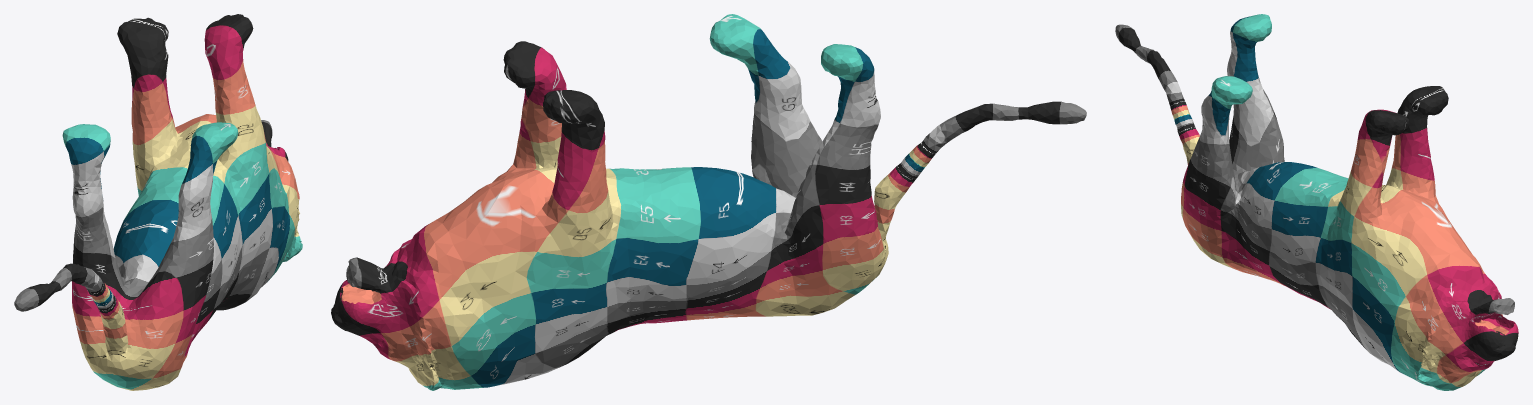
File: hippo_01-lion_05.obj
3 renders of one model, left to right at view 1: azimuth 30°, elevation 25°; view 2: azimuth 150°, elevation 25°; view 3: azimuth 270°, elevation 25°, orthographic. The views are drawn at different scales.
Visible parts, largest first — view 1: hippo_01-lion_05_export; view 2: hippo_01-lion_05_export; view 3: hippo_01-lion_05_export.
Part boxes in pixels (box(x1,y1,x2,y2)): hippo_01-lion_05_export: box(14, 14, 302, 390); hippo_01-lion_05_export: box(331, 14, 1086, 390); hippo_01-lion_05_export: box(1115, 14, 1518, 390).
Size of the model in its own units: 0.9703 by 0.5734 by 0.8065.
